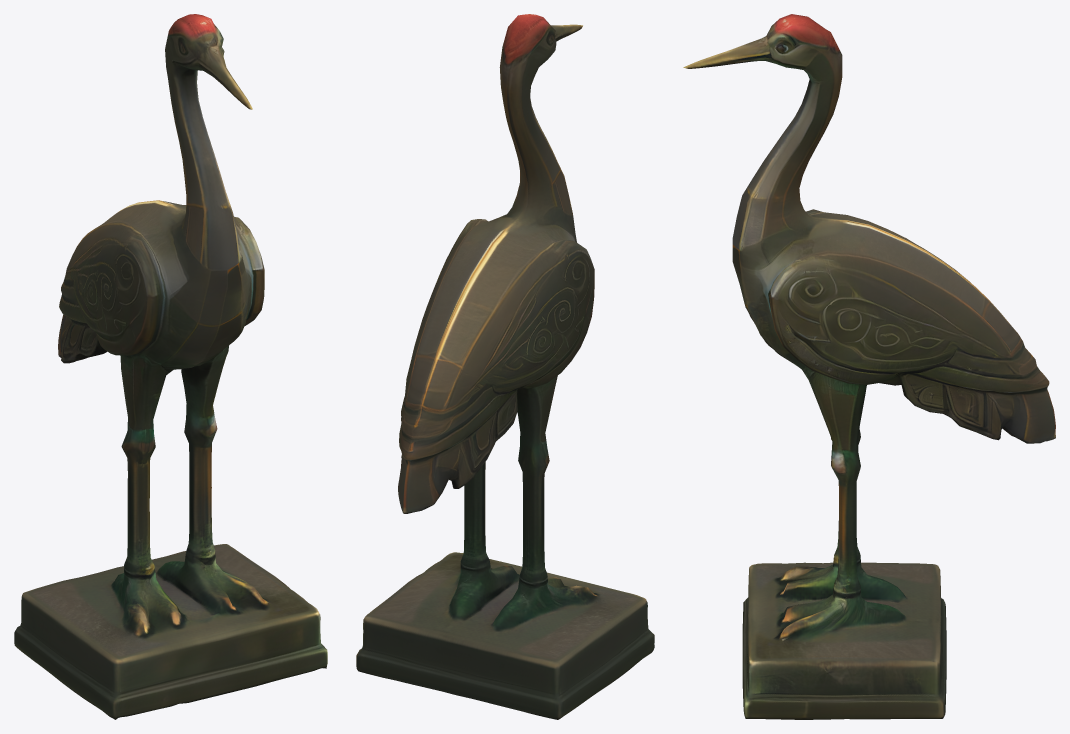
The model's file is crane.glb.
The picture shows the model from 3 angles, left to right: view 1: azimuth 30°, elevation 25°; view 2: azimuth 150°, elevation 25°; view 3: azimuth 270°, elevation 25°; orthographic projection. The views are drawn at different scales.
Visible parts, largest first — view 1: model; view 2: model; view 3: model.
Part boxes in pixels (x1,y1,x2,y2): model: [14, 14, 327, 719]; model: [356, 14, 654, 719]; model: [683, 14, 1055, 719].
Size of the model in its own units: 0.6609 by 1.9 by 0.9842.
1 material, 1 textured.
